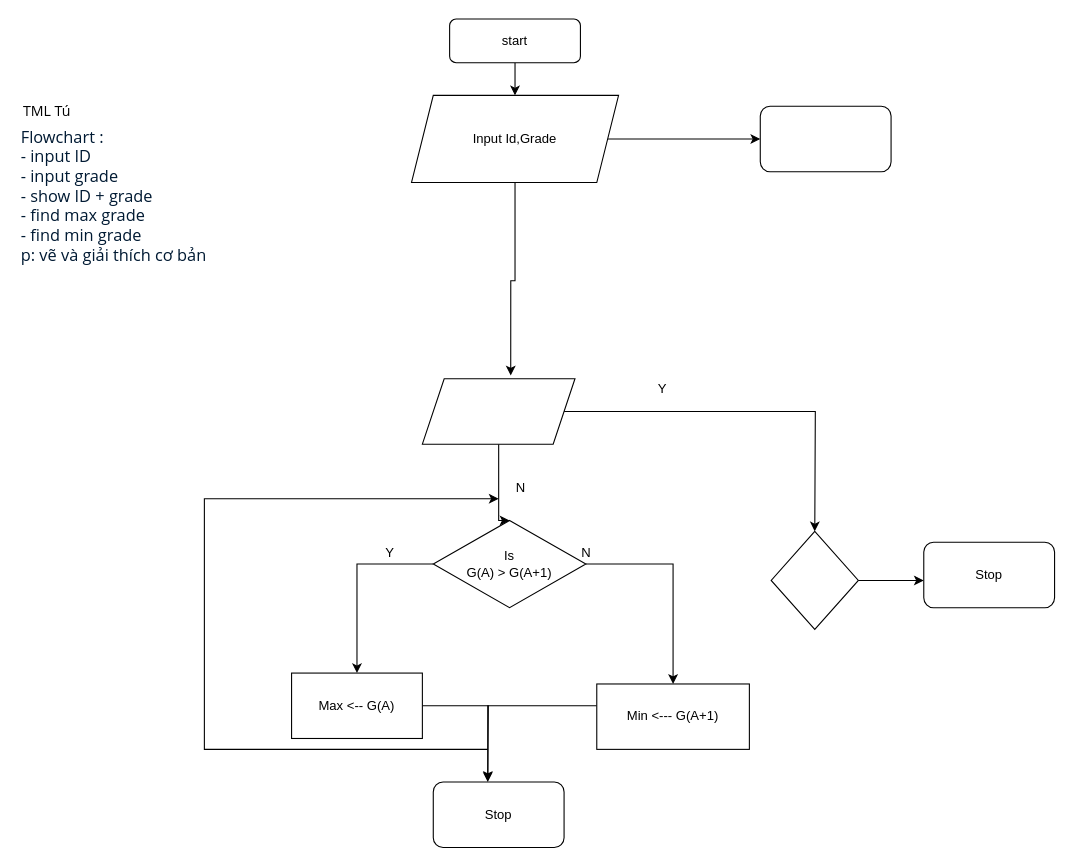
Image size: 1074x867. Some labels were removed from this diagram. Here are the shapes that lost their labels. From the top down, the centre of each, then its label:
the point at 825,138: Print ID, Grade
the point at 498,411: Grade == Grade[0]
the point at 814,579: Print stu first
